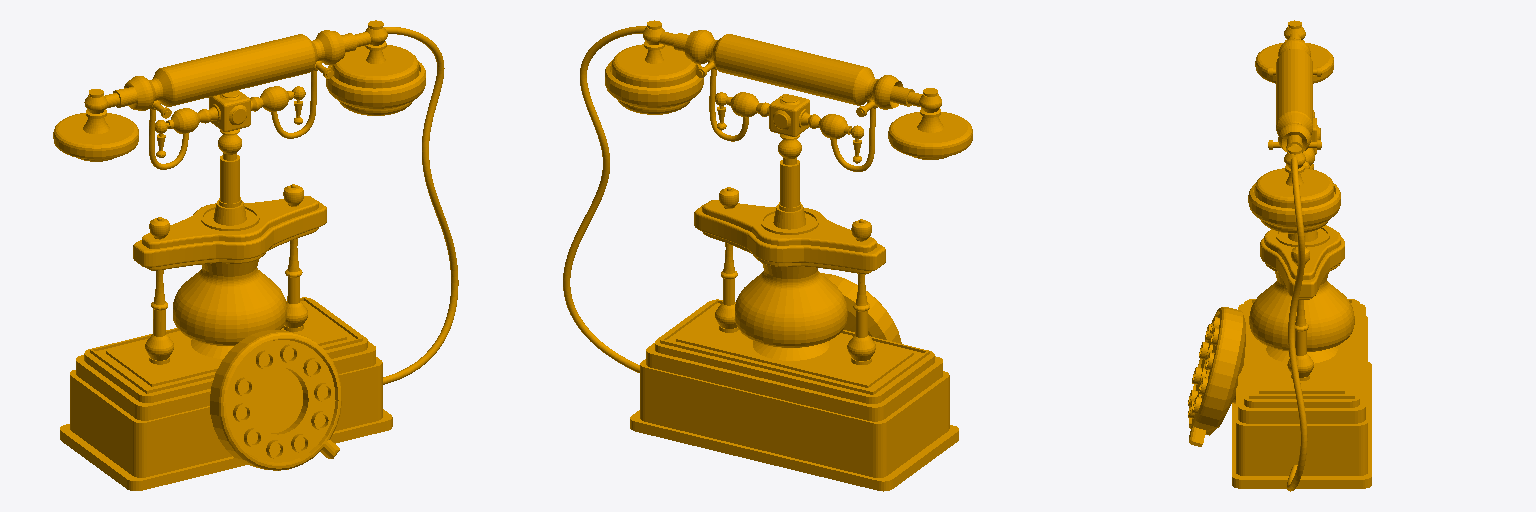
robot.urdf — telephone_75:
<?xml version='1.0' encoding='utf-8'?>
<robot name="telephone_75">
        <link name="link_0">
            <visual>
                <origin xyz="0.0 0.0 0.0" rpy="1.5707963267948966 0.0 0.0" />
                <geometry>
                    <mesh filename="textured_objs/textured.obj" scale="1 1 1.0" />
                </geometry>
            </visual>
            <collision>
                <origin xyz="0.0 0.0 0.0" rpy="1.5707963267948966 0.0 0.0" />
                <geometry>
                    <mesh filename="textured_objs/collision.obj" scale="1 1 1.0" />
                </geometry>
            </collision>
            <inertial>
                <mass value="0.1" />
                <inertia ixx="0.0001" ixy="0.0" ixz="0.0" iyy="0.0001" iyz="0.0" izz="0.0001" />
            </inertial>
        </link>
    </robot>

--- Render facts (derived) ---
The picture shows the robot from 3 angles, left to right: view 1: azimuth 30°, elevation 25°; view 2: azimuth 150°, elevation 25°; view 3: azimuth 270°, elevation 25°; orthographic projection.
Model telephone_75 with 1 links and 0 joints (none), rooted at link_0, posed every joint at zero.
Visible links, largest first — view 1: link_0; view 2: link_0; view 3: link_0.
Boxes of the visible links, box(x1,y1,x2,y2) form: link_0: box(53, 20, 458, 490); link_0: box(563, 20, 972, 491); link_0: box(1188, 20, 1371, 491).
Size in the robot's own frame: 457 by 197 by 414 metres.
Meshes: 1 distinct files referenced, 1 mesh visuals loaded (1 OBJ).